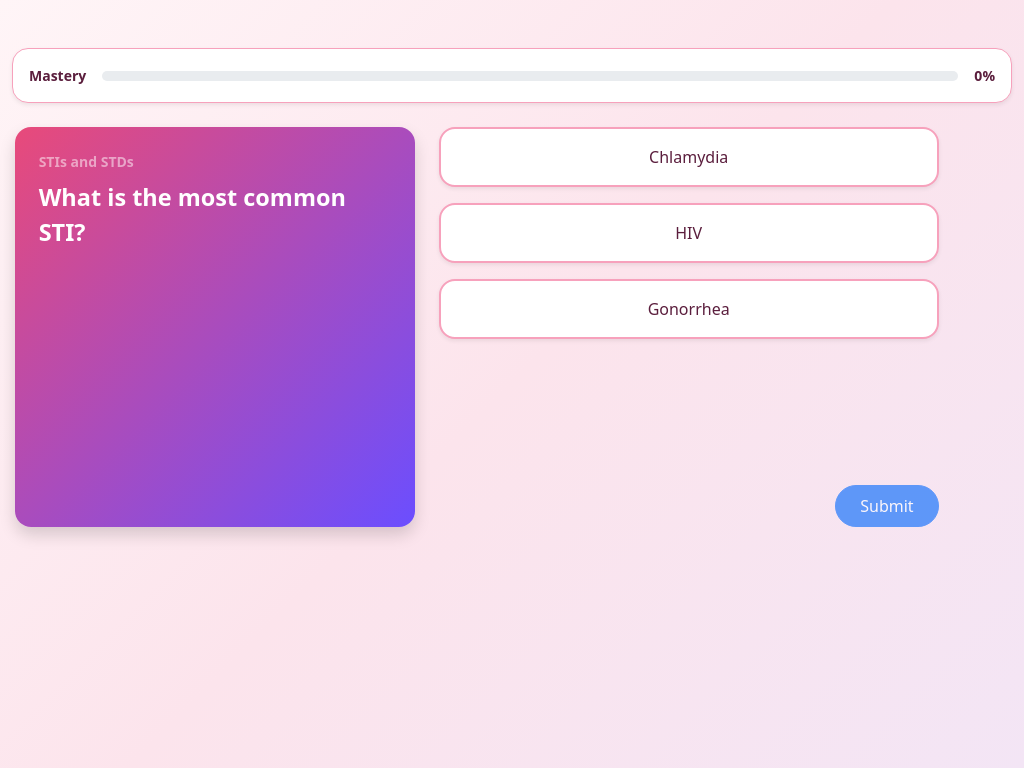
Test: Quiz page › shows Incorrect when wrong answer is submitted
Click the button "HIV".
click(689, 233)  # box [439,203,939,263]
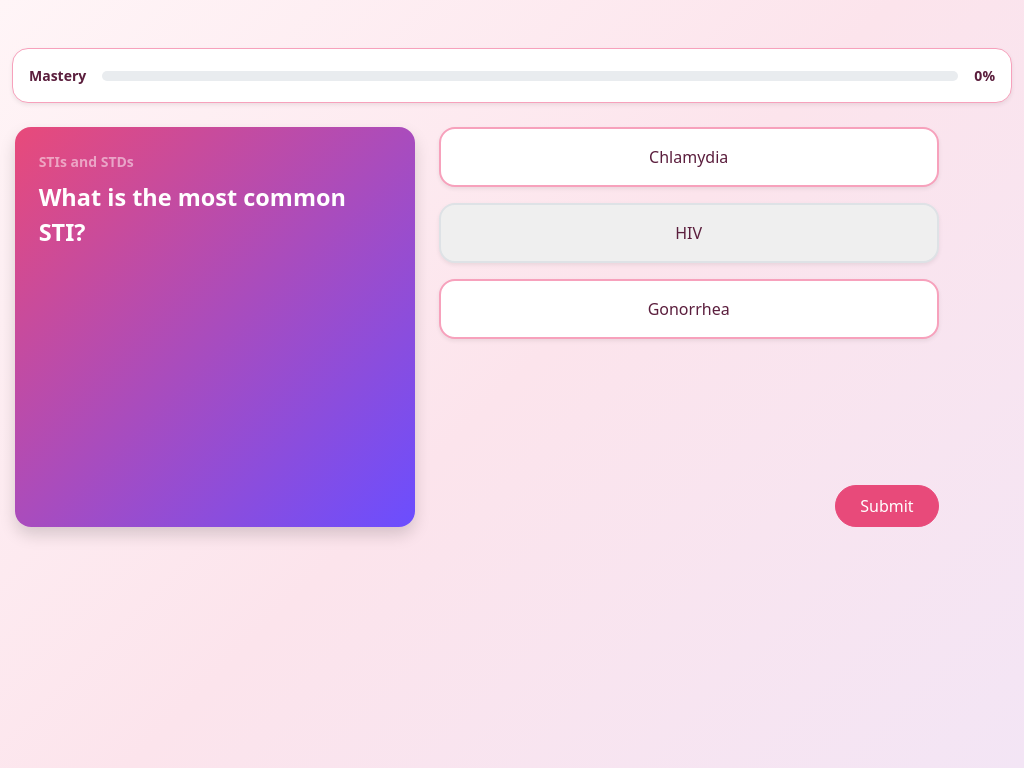
Click the button "Submit".
click(887, 506)  # box [835,485,939,527]
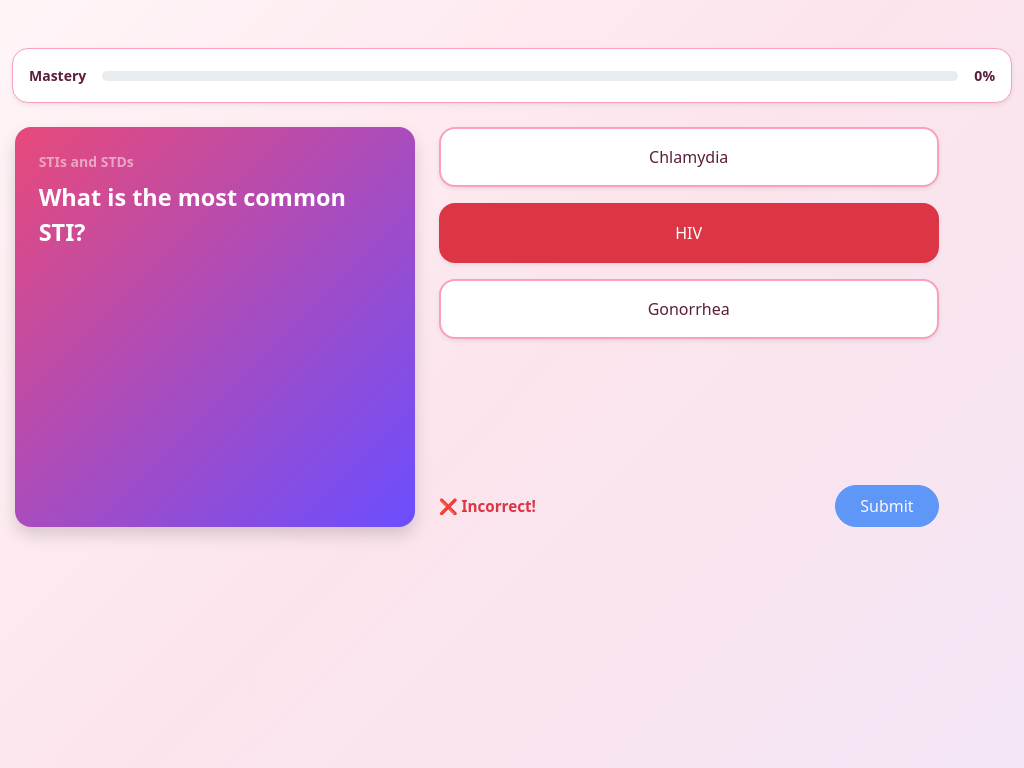
Check: the text "❌ Incorrect!" is shown, box [439,495,536,517]
